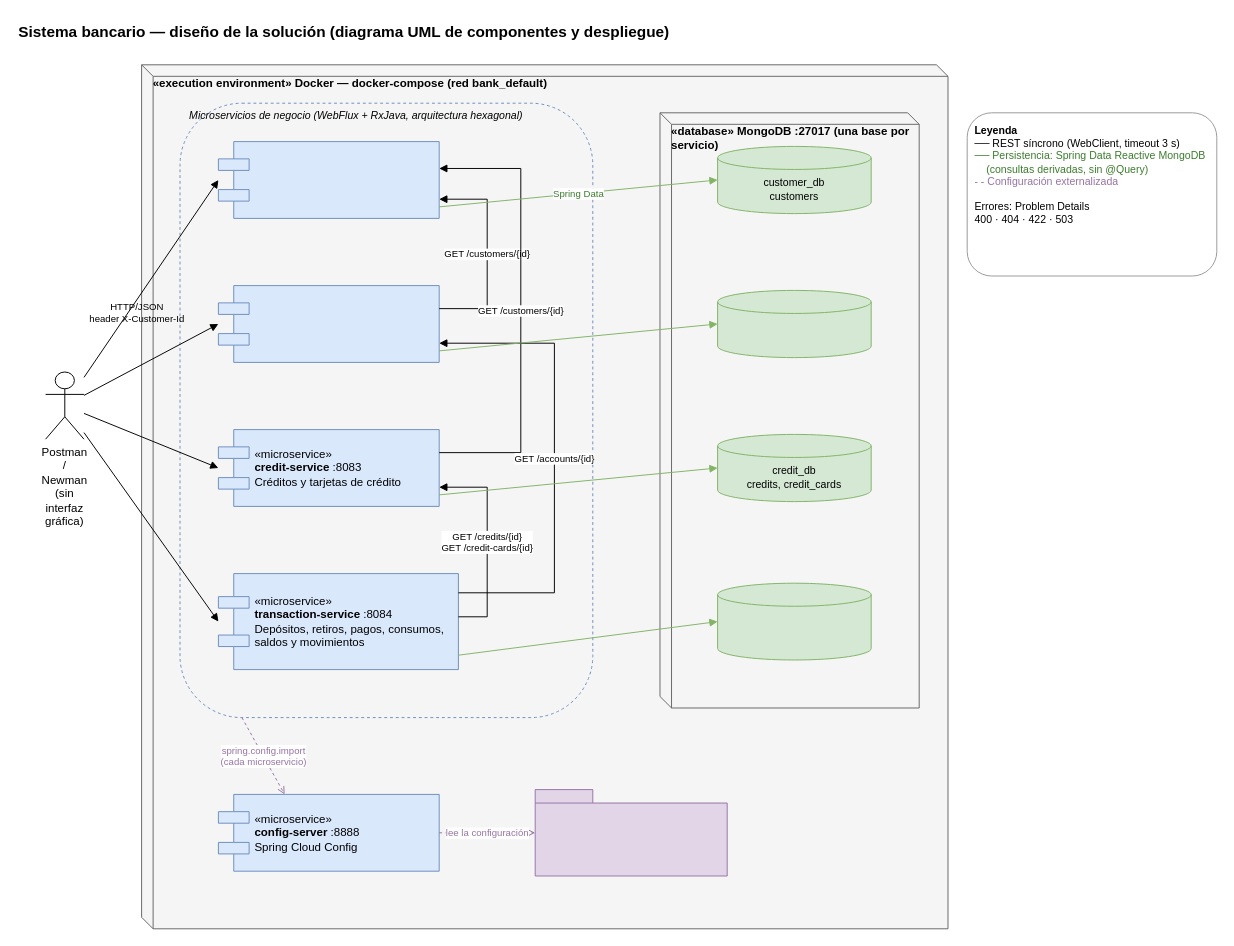
This 1234x946 diagram has some shape labels left out. Here are the shapes that lost their labels. From the top down, the centre of each, then its label:
At (x=328, y=179): "«microservice» customer-service :8081 Clientes".
At (x=328, y=323): "«microservice» account-service :8082 Cuentas bancarias".
At (x=794, y=323): "account_db accounts".
At (x=794, y=621): "transaction_db movements, payments, charges".
At (x=630, y=832): "«git repository» config-repo application.yaml, *-service.yaml".
